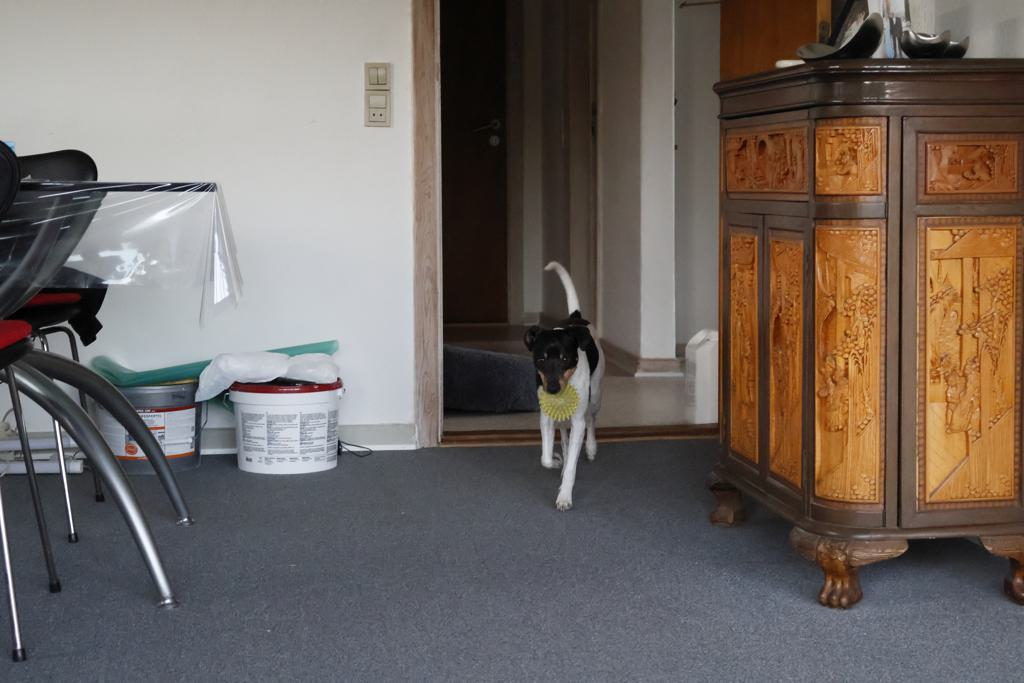Dog: (504, 249, 627, 525)
